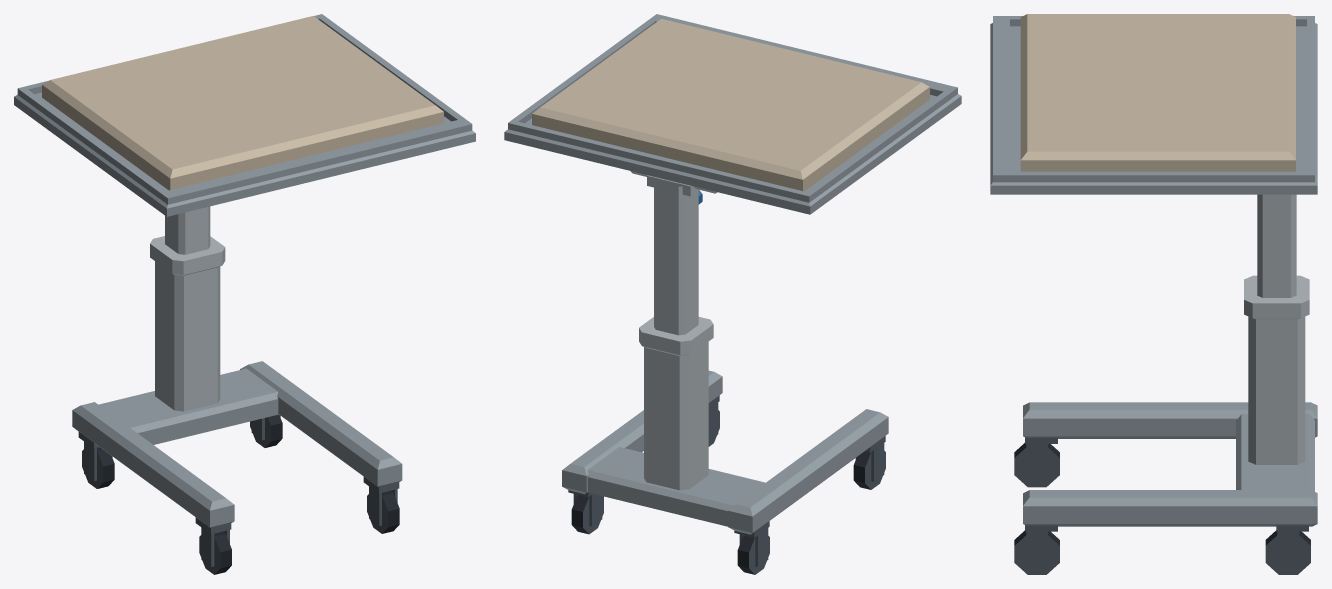
The model's file is overbed-table-7409a5.glb.
The picture shows the model from 3 angles, left to right: view 1: azimuth 30°, elevation 25°; view 2: azimuth 150°, elevation 25°; view 3: azimuth 270°, elevation 25°; orthographic projection. The views are drawn at different scales.
Visible parts, largest first — view 1: table-top, overbed-table, wheel-2, wheel-4, caster-2, wheel-1, caster-4, wheel-3; view 2: table-top, overbed-table, wheel-1, wheel-3, wheel-2, caster-1; view 3: table-top, overbed-table, wheel-2, caster-3, wheel-3, caster-2, wheel-4, caster-4.
Part boxes in pixels (x1=…): table-top: x1=14, y1=14, x2=475, y2=216; overbed-table: x1=72, y1=206, x2=402, y2=527; wheel-2: x1=199, y1=531, x2=231, y2=574; wheel-4: x1=367, y1=490, x2=399, y2=533; caster-2: x1=195, y1=517, x2=231, y2=566; wheel-1: x1=82, y1=447, x2=114, y2=488; caster-4: x1=363, y1=477, x2=399, y2=525; wheel-3: x1=250, y1=414, x2=282, y2=447; table-top: x1=504, y1=14, x2=961, y2=214; overbed-table: x1=562, y1=175, x2=888, y2=534; wheel-1: x1=737, y1=535, x2=769, y2=574; wheel-3: x1=571, y1=495, x2=603, y2=534; wheel-2: x1=853, y1=451, x2=885, y2=489; caster-1: x1=734, y1=521, x2=769, y2=566; table-top: x1=990, y1=14, x2=1317, y2=194; overbed-table: x1=1023, y1=194, x2=1317, y2=526; wheel-2: x1=1014, y1=443, x2=1059, y2=487; caster-3: x1=1276, y1=525, x2=1308, y2=566; wheel-3: x1=1265, y1=530, x2=1310, y2=574; caster-2: x1=1025, y1=437, x2=1057, y2=479; wheel-4: x1=1014, y1=530, x2=1059, y2=574; caster-4: x1=1025, y1=525, x2=1057, y2=566.
Size of the model in its own units: 0.7 by 0.9 by 0.6.
